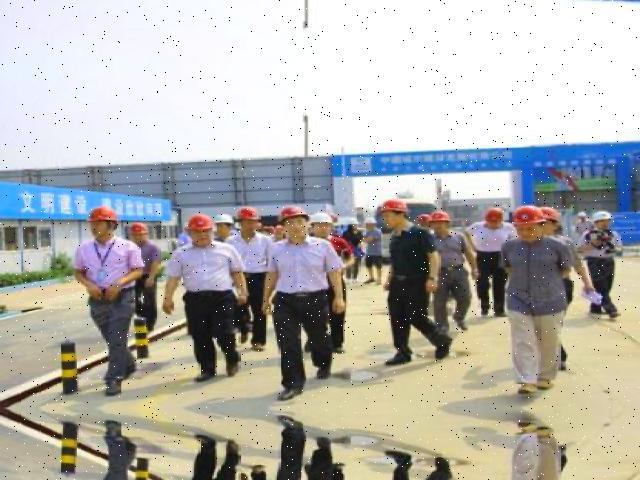Helmet: (503, 202, 548, 231), (80, 206, 124, 231), (177, 212, 217, 238), (272, 202, 312, 227), (370, 196, 410, 221), (229, 201, 257, 223), (426, 208, 452, 228), (589, 208, 615, 227)
